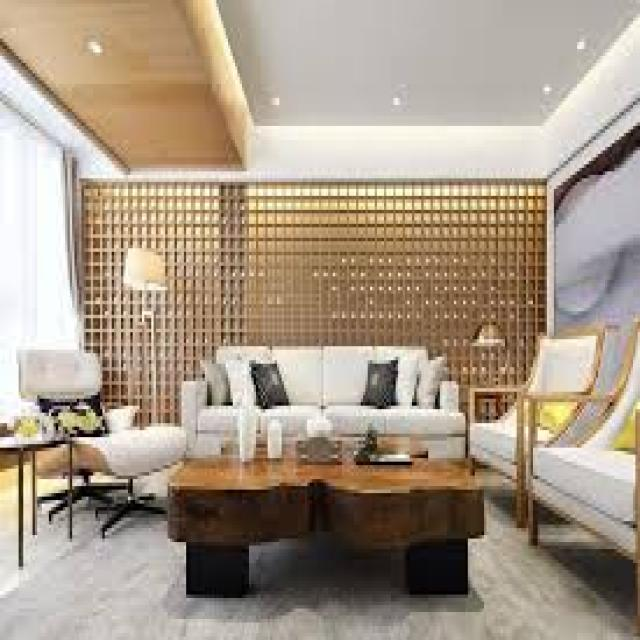Chair: (470, 312, 640, 582), (24, 348, 182, 509)
Lamp: (120, 242, 166, 405)
Sofa: (180, 332, 468, 465)
Table: (176, 432, 483, 598)
